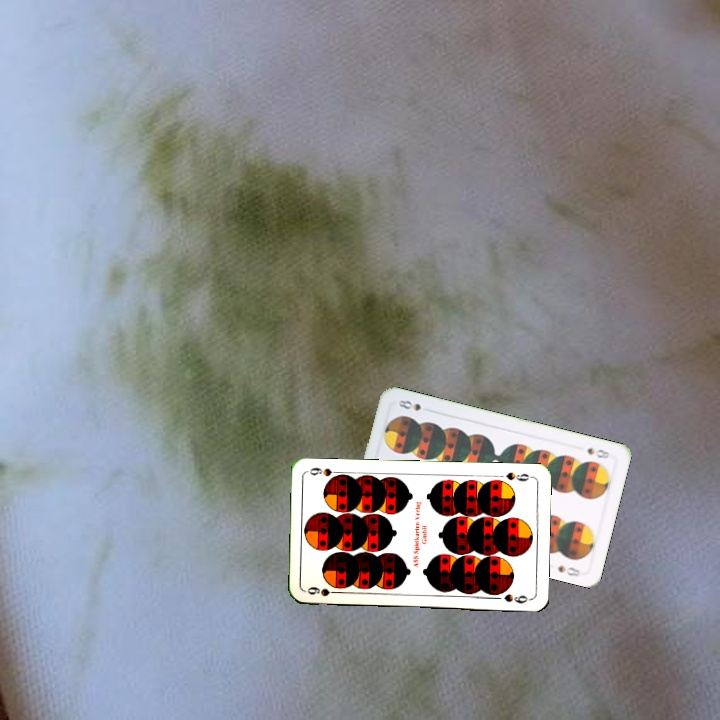S8: (583, 444, 612, 461)
S9: (303, 583, 344, 599), (502, 468, 535, 484)
